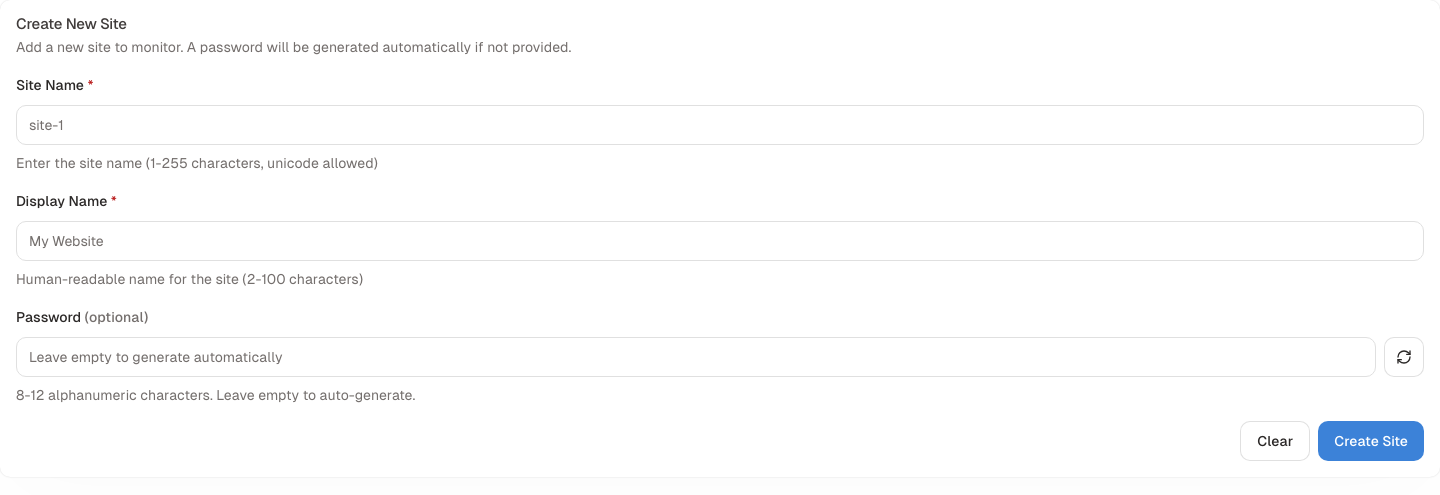
Test: CreateSiteForm › Clear Button › should clear all form fields when clicked
This screenshot has width=1440, height=495.
Type "test-site" into the field labelled "Site Name *" at (720, 125), box [16,105,1424,145]
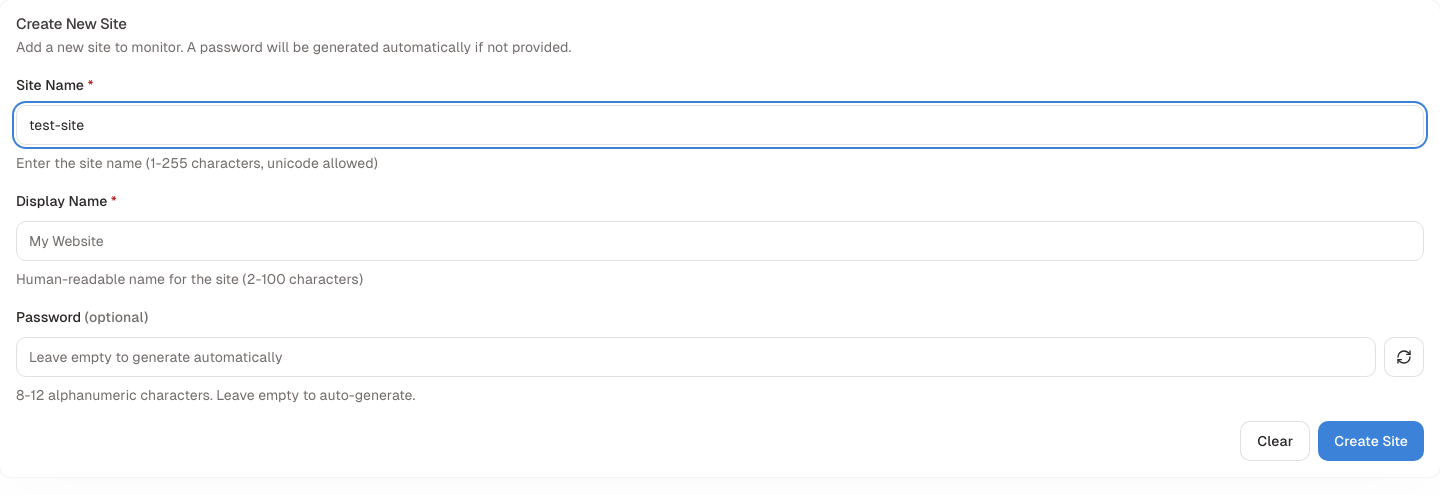
Type "Test Site" into the field labelled "Display Name *" at (720, 241), box [16,221,1424,261]
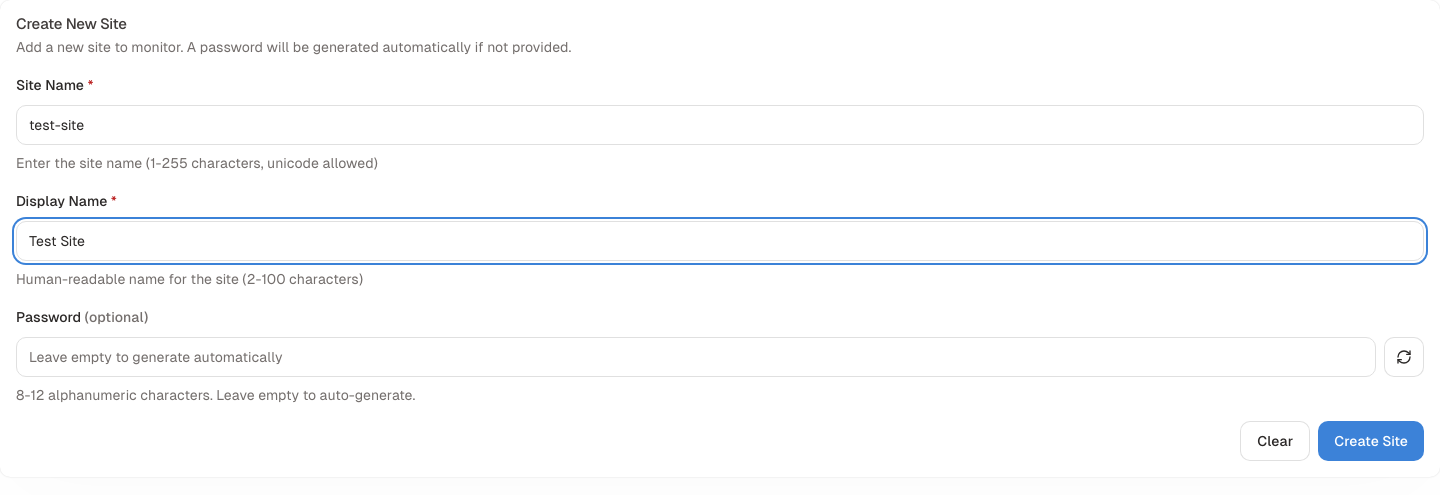
Type "testPassword123" into the field labelled "Password (optional)" at (696, 357), box [16,337,1376,377]
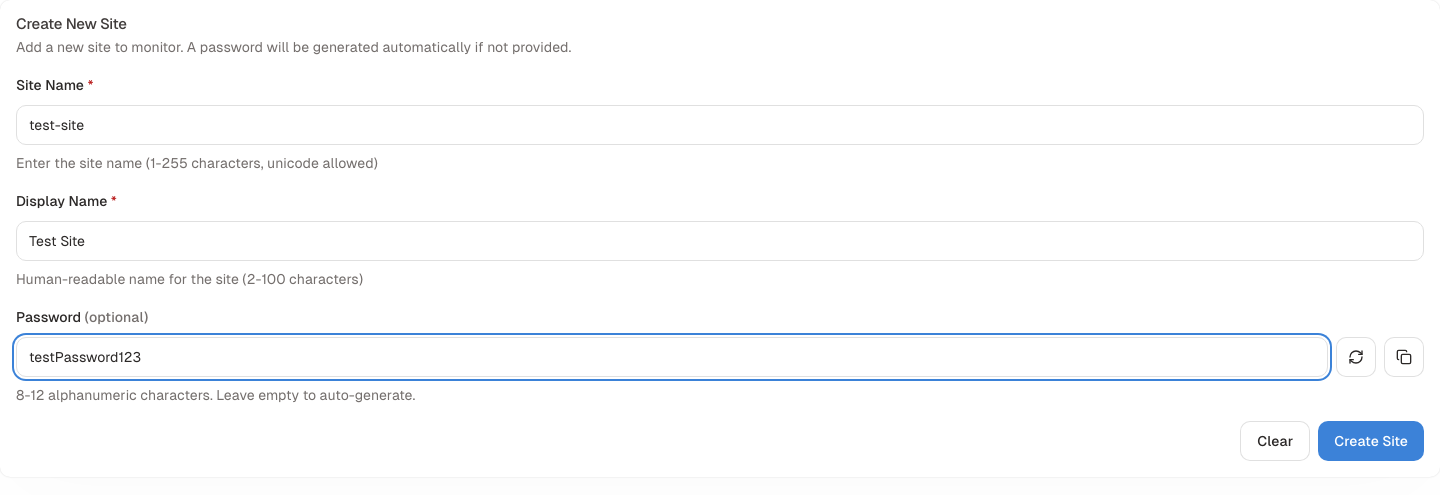
Click the button "Clear" at (1275, 441), box [1240,421,1310,461]
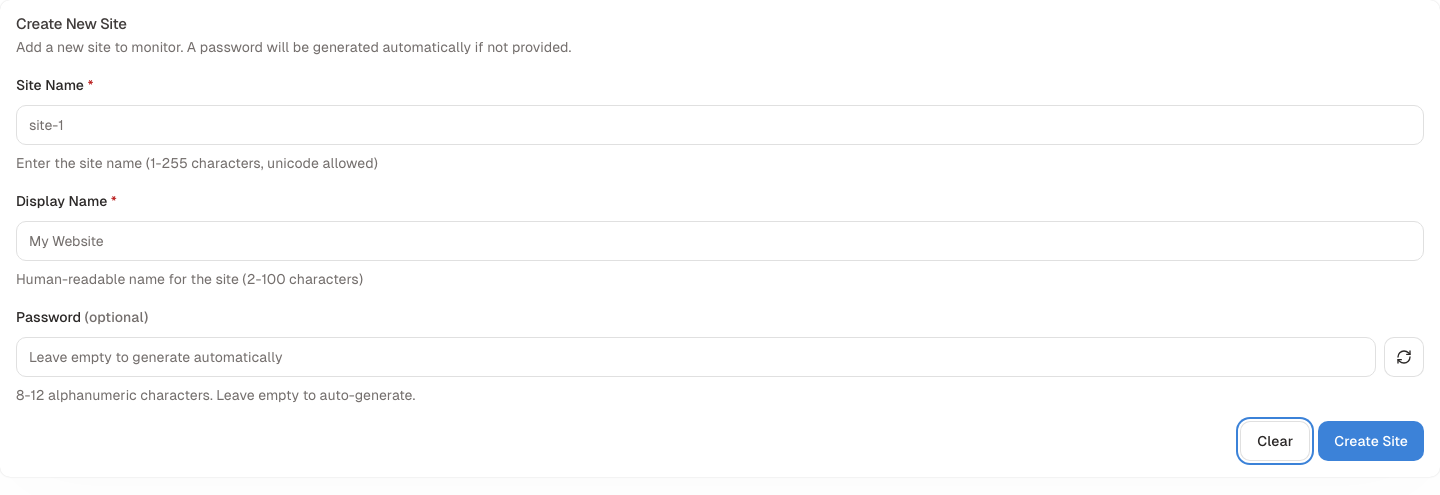
Now the field labelled "Site Name *" is empty, box [16,105,1424,145]
Now the field labelled "Display Name *" is empty, box [16,221,1424,261]
Now the field labelled "Password (optional)" is empty, box [16,337,1376,377]
